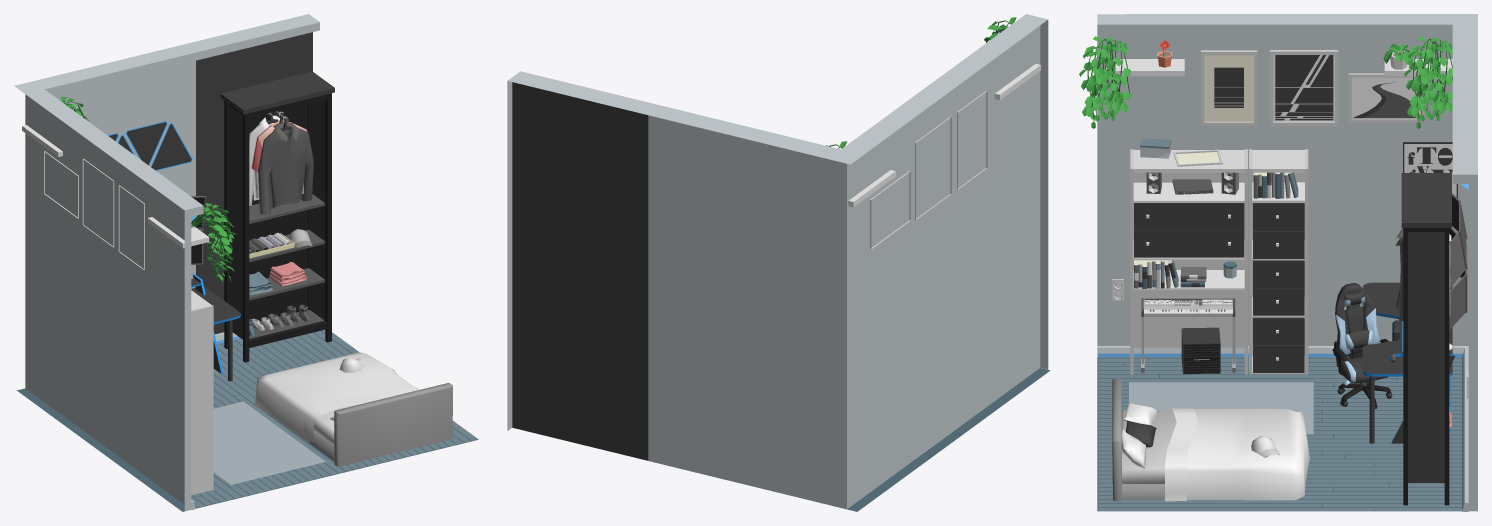
Rendered from room.glb.
3 renders of one model, left to right at view 1: azimuth 30°, elevation 25°; view 2: azimuth 150°, elevation 25°; view 3: azimuth 270°, elevation 25°, orthographic. The views are drawn at different scales.
Visible parts, largest first — view 1: low_poly_interior.7617, low_poly_interior.7605, low_poly_interior.7635, low_poly_interior.7619, low_poly_interior.7620, low_poly_interior.7622, low_poly_interior.7637, low_poly_interior.7630, low_poly_interior.7618, low_poly_interior.503, low_poly_interior.497, low_poly_interior.7610 (+5 smaller); view 2: low_poly_interior.7617, low_poly_interior.7620, low_poly_interior.7618; view 3: low_poly_interior.7617, low_poly_interior.7619, low_poly_interior.7635, low_poly_interior.7605, low_poly_interior.7637, low_poly_interior.7620, low_poly_interior.7618, low_poly_interior.7638, low_poly_interior.494, low_poly_interior.7622, low_poly_interior.493, low_poly_interior.7636 (+22 smaller).
Part boxes in pixels (x1,y1,x2,y2): low_poly_interior.7617: (14, 14, 312, 510); low_poly_interior.7605: (220, 71, 334, 362); low_poly_interior.7635: (255, 352, 452, 466); low_poly_interior.7619: (191, 329, 477, 507); low_poly_interior.7620: (25, 17, 319, 216); low_poly_interior.7622: (213, 401, 325, 484); low_poly_interior.7637: (191, 290, 213, 495); low_poly_interior.7630: (258, 116, 313, 214); low_poly_interior.7618: (17, 330, 478, 511); low_poly_interior.503: (108, 121, 192, 170); low_poly_interior.497: (191, 203, 235, 281); low_poly_interior.7610: (191, 274, 240, 381); low_poly_interior.7617: (507, 17, 1048, 509); low_poly_interior.7620: (512, 14, 1039, 158); low_poly_interior.7618: (512, 368, 1050, 511); low_poly_interior.7617: (1097, 14, 1477, 511); low_poly_interior.7619: (1098, 357, 1462, 510); low_poly_interior.7635: (1112, 378, 1309, 501); low_poly_interior.7605: (1401, 173, 1451, 505); low_poly_interior.7637: (1130, 149, 1247, 374); low_poly_interior.7620: (1097, 18, 1468, 183); low_poly_interior.7618: (1097, 357, 1462, 511); low_poly_interior.7638: (1134, 203, 1244, 257); low_poly_interior.494: (1270, 50, 1338, 125); low_poly_interior.7622: (1129, 382, 1313, 434); low_poly_interior.493: (1201, 50, 1257, 125); low_poly_interior.7636: (1249, 149, 1308, 374).
Size of the model in its own units: 4.12 by 4.03 by 4.3.
Materials: 2 (2 with a texture image).
